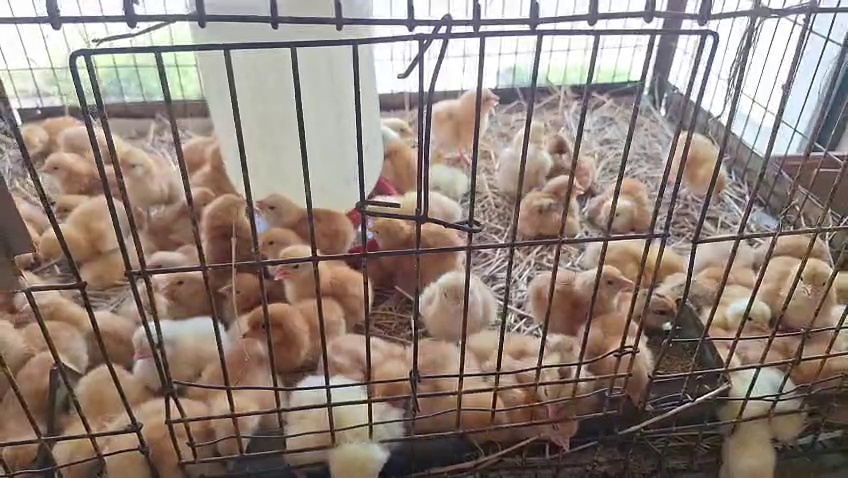Pollo: (275, 371, 415, 478), (704, 365, 824, 478), (393, 341, 513, 442), (556, 311, 675, 407), (120, 306, 239, 397), (14, 279, 133, 369), (0, 344, 76, 478), (66, 354, 148, 478), (272, 238, 376, 335), (209, 339, 285, 471), (395, 264, 515, 341), (251, 174, 371, 251), (243, 292, 363, 369), (517, 261, 637, 338), (752, 253, 848, 343), (581, 222, 694, 290), (511, 327, 604, 405), (0, 307, 93, 384), (133, 394, 218, 478), (33, 189, 125, 265), (653, 126, 742, 203), (427, 80, 507, 163), (517, 168, 598, 245), (96, 139, 180, 208), (364, 211, 473, 264), (142, 173, 216, 250), (356, 179, 476, 226), (192, 188, 260, 264), (590, 167, 655, 243), (490, 118, 551, 195), (151, 254, 222, 320), (211, 257, 281, 322), (5, 94, 75, 155), (622, 280, 691, 339), (545, 124, 597, 201), (719, 287, 786, 343), (241, 220, 313, 271), (364, 135, 422, 194), (528, 407, 592, 454), (122, 243, 199, 280), (36, 146, 94, 192), (370, 107, 429, 147), (35, 180, 87, 224), (767, 468, 772, 478)
